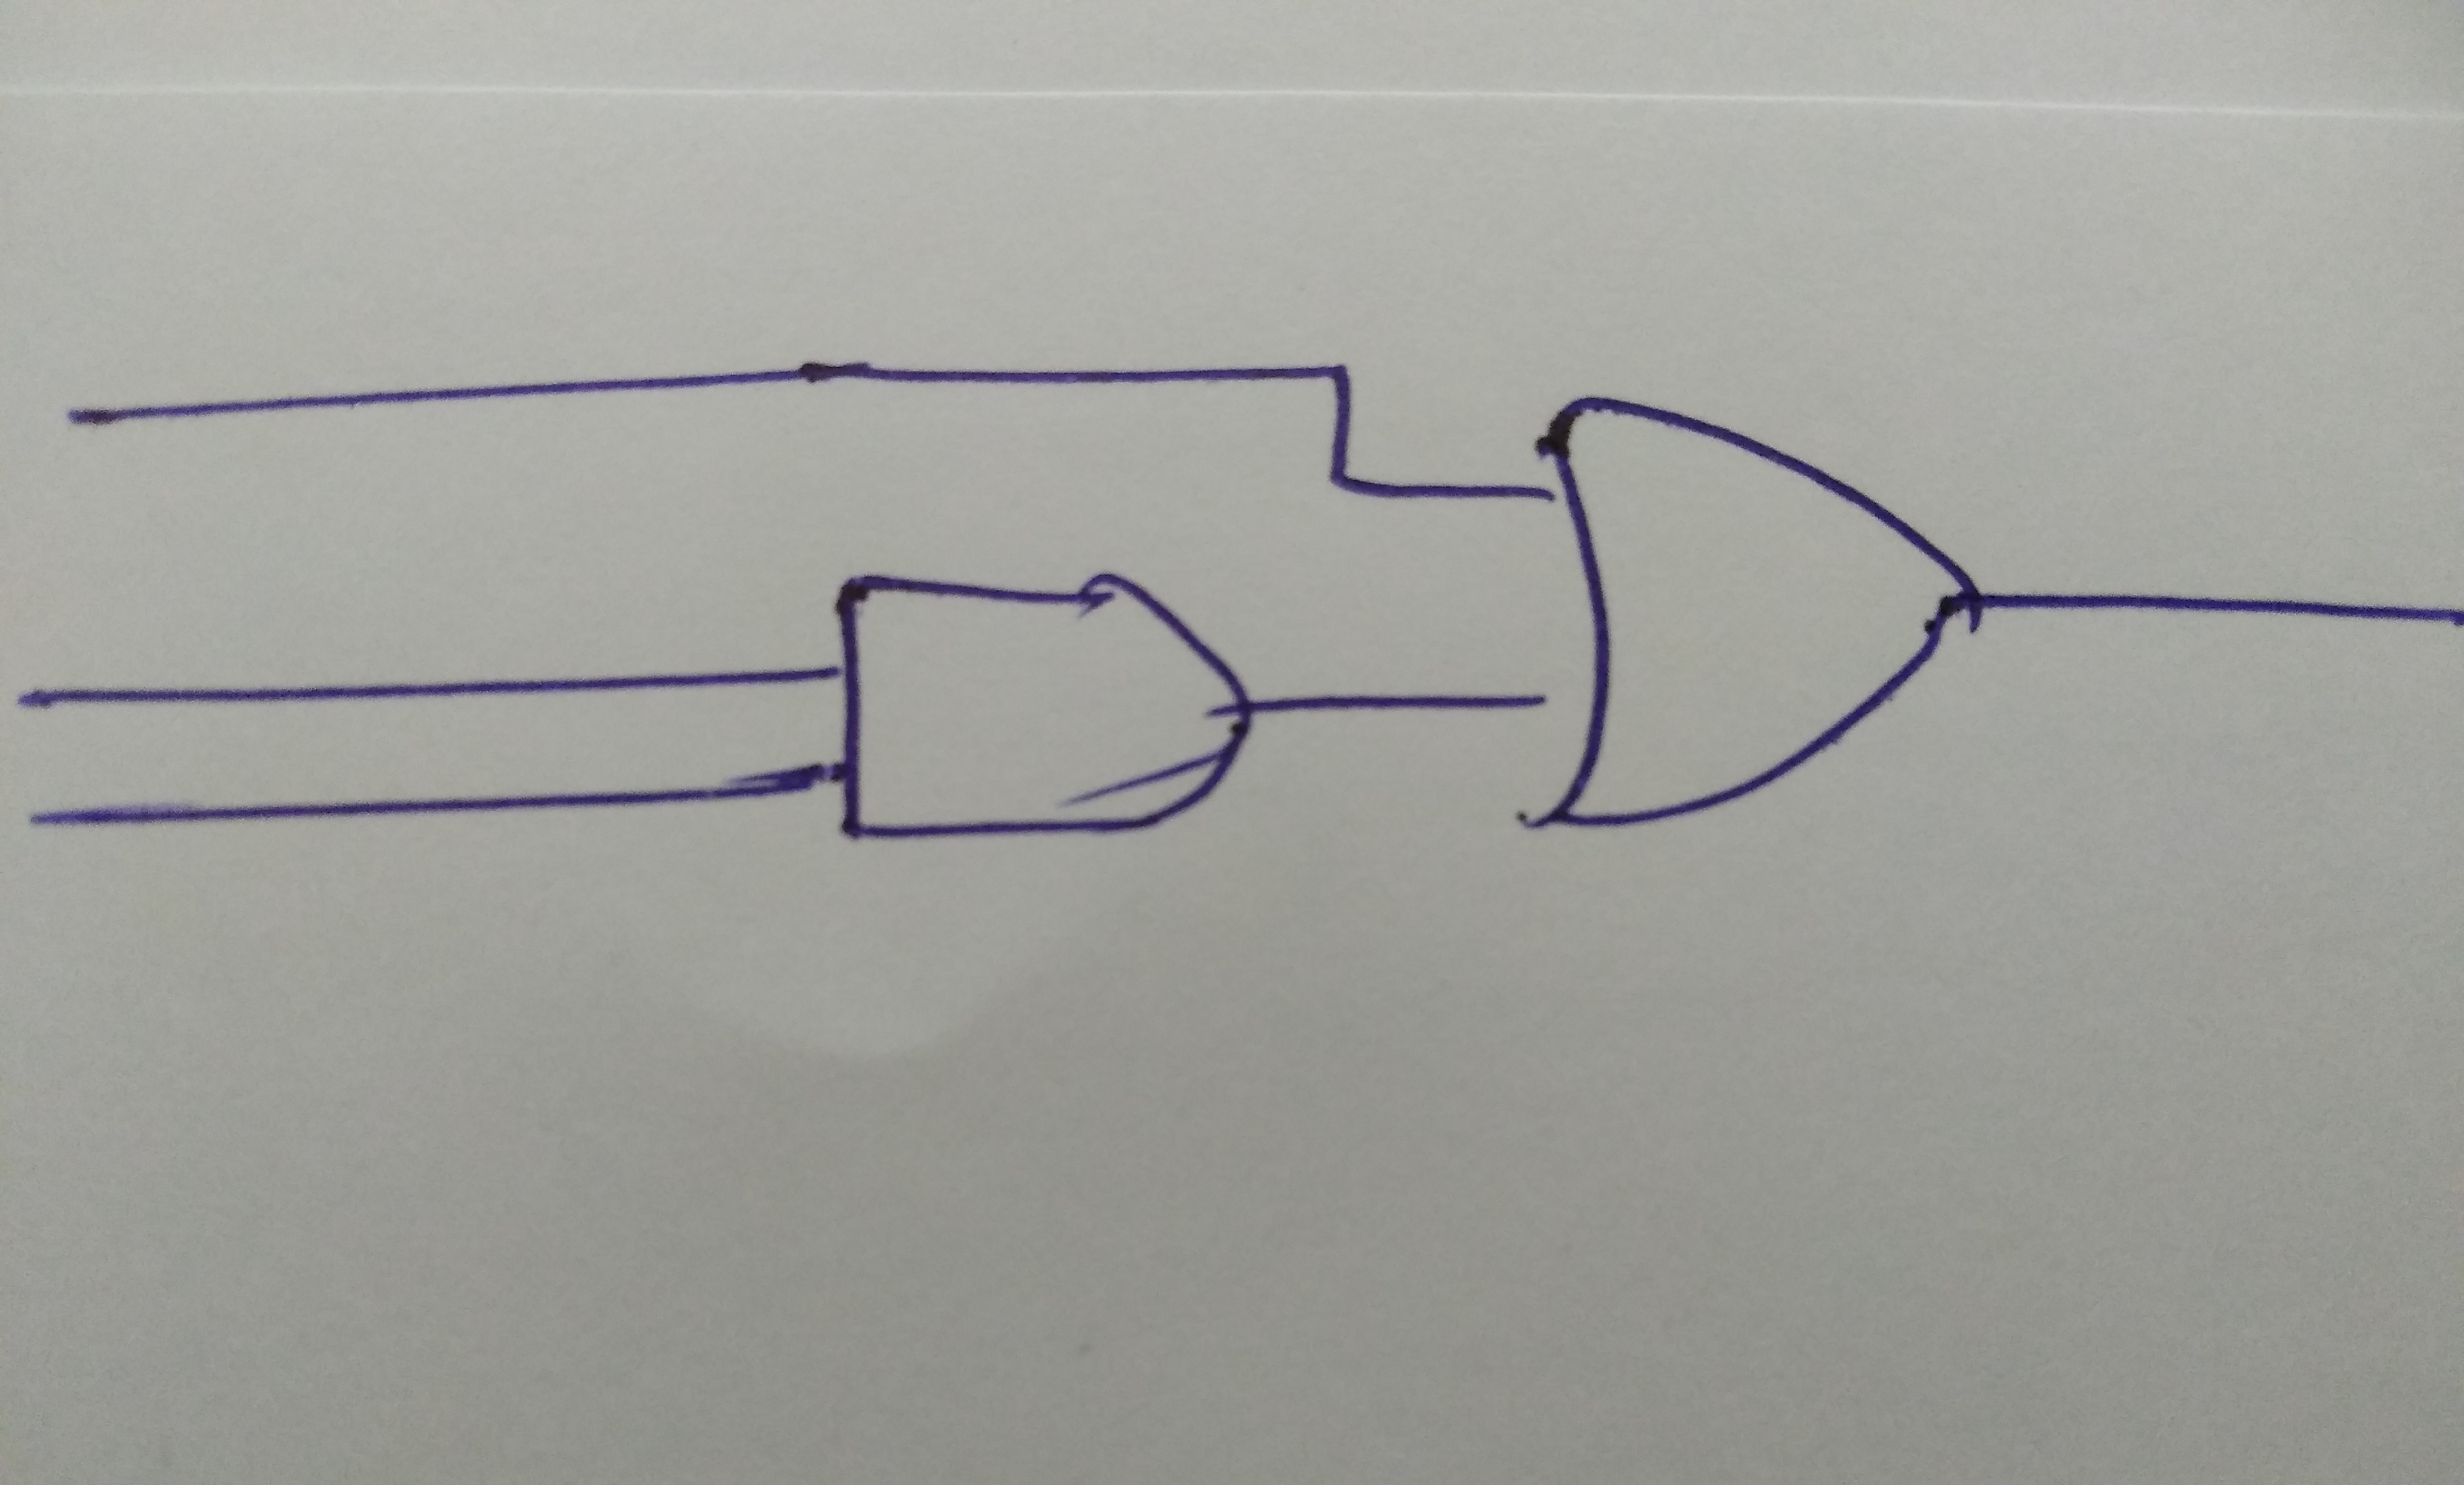and: (764, 526, 1309, 910)
or: (1461, 369, 2020, 862)
